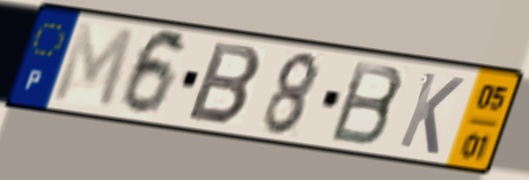6: (115, 27, 192, 122)
8: (258, 49, 324, 138)
B: (183, 38, 266, 129), (326, 58, 407, 149)
K: (394, 68, 468, 158)
M: (48, 19, 139, 113)
